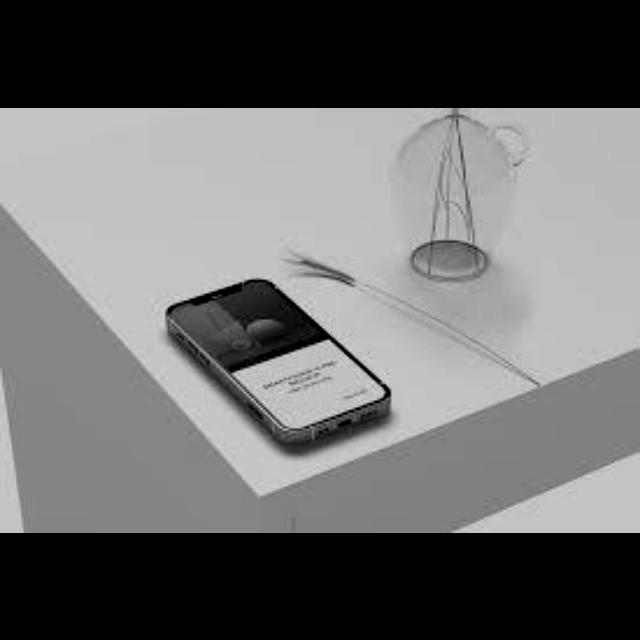fake: (151, 246, 403, 456)
